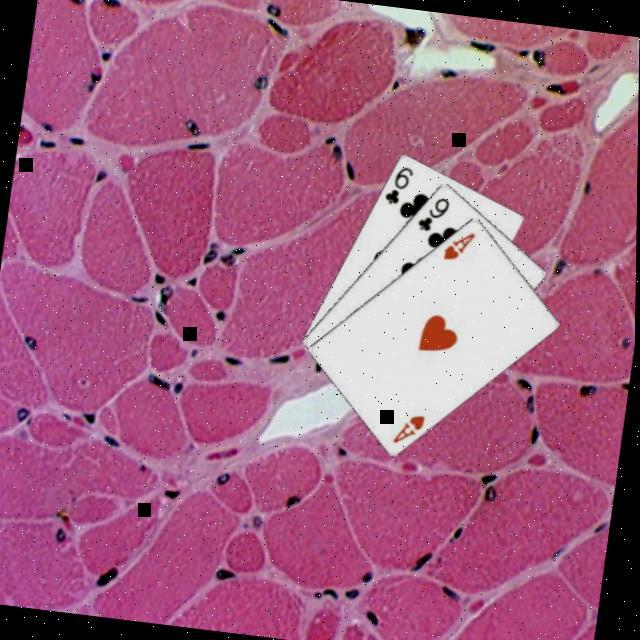6C: (379, 160, 416, 208)
9C: (412, 190, 453, 236)
AH: (438, 224, 478, 264), (389, 407, 428, 448)
